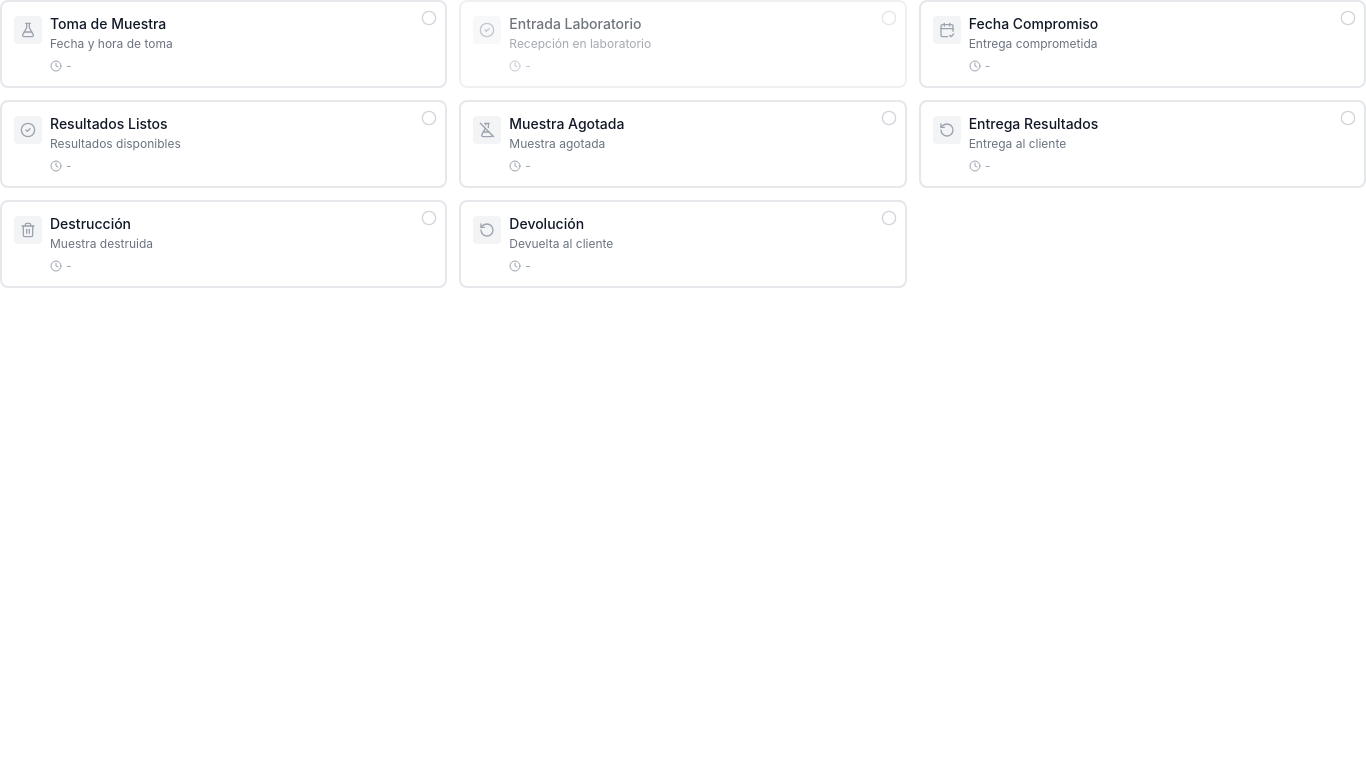
Scenario: TimelineEventsSection › f_recepcion en modo edición (isEditing=true) › otros botones siguen siendo clickeables en modo edición
Click the button "Toma de Muestra Fecha y hora de toma -" at (108, 24), box [0, 0, 447, 88]
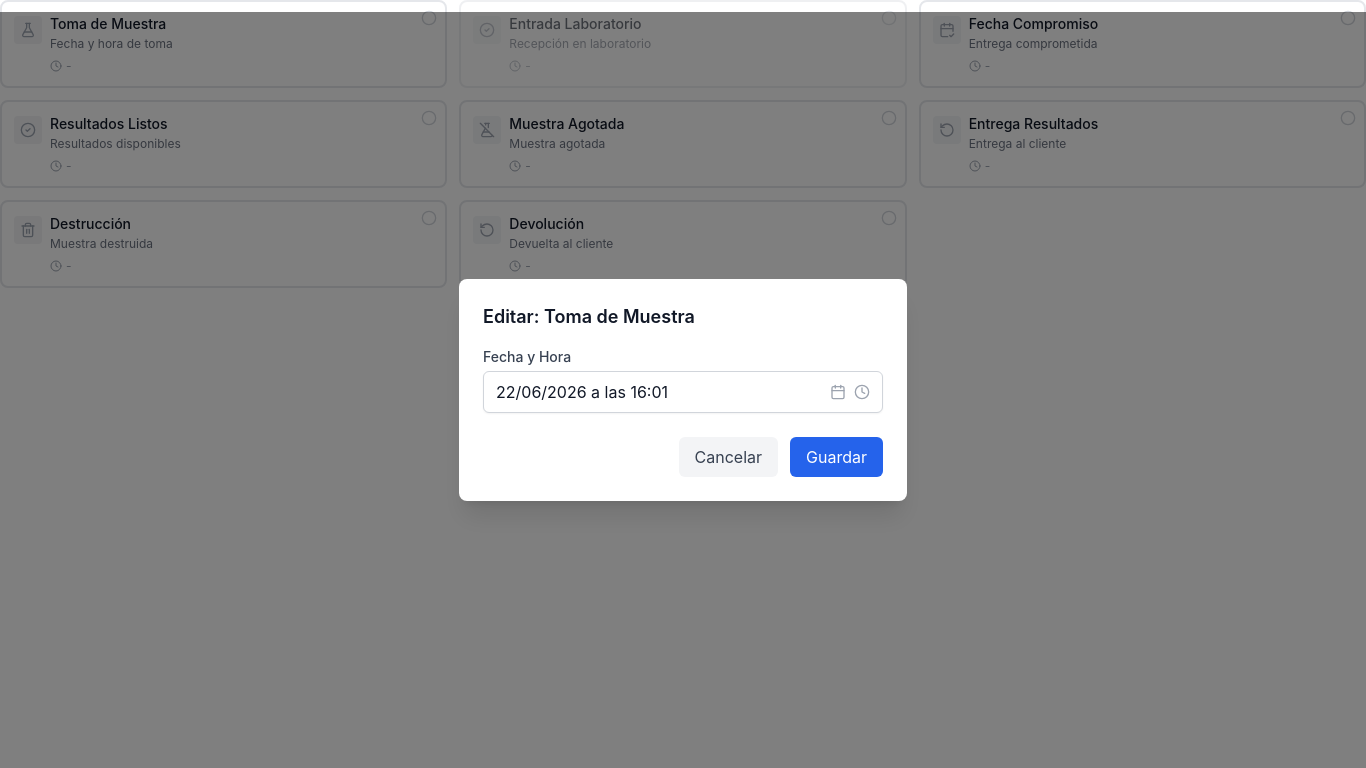
Result: the heading "Editar: Toma de Muestra" is shown at [483, 306, 695, 327]
